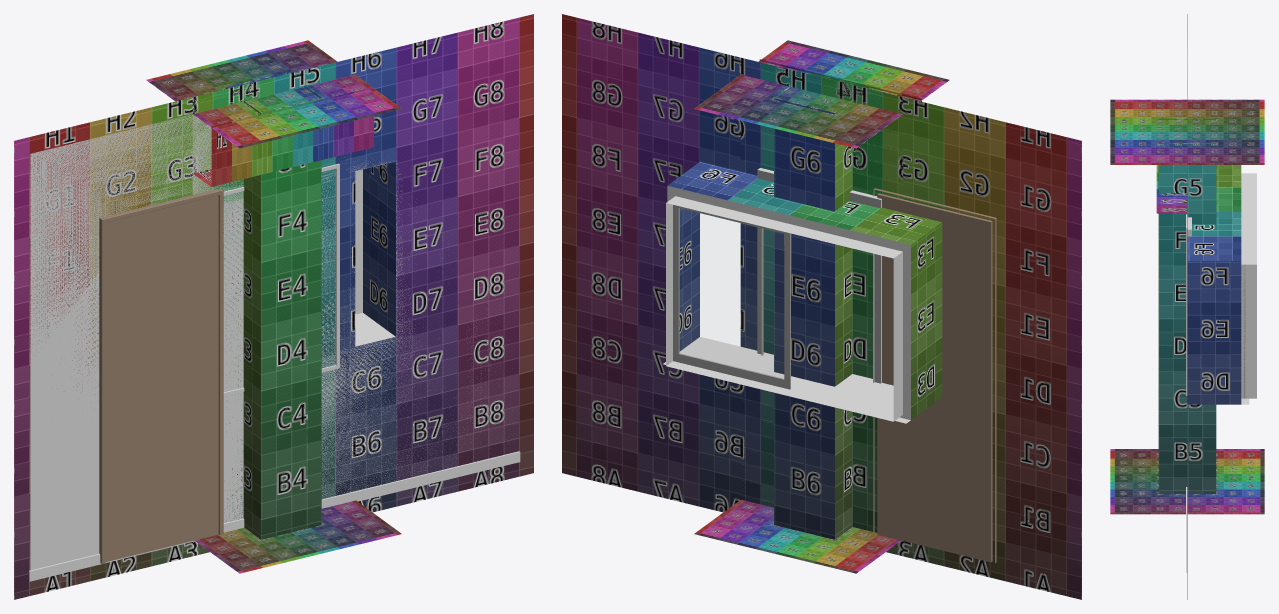
The model's file is units.glb.
3 views of the same model, side by side, from view 1: azimuth 30°, elevation 25°; view 2: azimuth 150°, elevation 25°; view 3: azimuth 270°, elevation 25° (orthographic). The views are drawn at different scales.
Visible parts, largest first — view 1: wall, __ROOM_WALL__wall.001, Door, Pillar, __CEILING__, __ROOM_WALL__wall, __FLOOR__, __BEAM__hari-300, __DOOR__, __WALL__.001, __WALL__, __BASEBOARD__ (+1 smaller); view 2: wall, Door, Pillar, __CEILING__, __WALL__.001, __WALL__, __FLOOR__, Window, __WINDOW__, __DOOR__; view 3: wall, Pillar, __CEILING__, __FLOOR__, __BEAM__hari-300, __WINDOW__, Window.
Boxes of the visible parts, bbox=[...] form: wall: bbox=[14, 14, 533, 599]; __ROOM_WALL__wall.001: bbox=[30, 114, 485, 570]; Door: bbox=[105, 195, 218, 561]; Pillar: bbox=[226, 72, 321, 539]; __CEILING__: bbox=[146, 40, 401, 148]; __ROOM_WALL__wall: bbox=[192, 114, 355, 531]; __FLOOR__: bbox=[194, 500, 401, 573]; __BEAM__hari-300: bbox=[193, 86, 373, 186]; __DOOR__: bbox=[99, 188, 223, 563]; __WALL__.001: bbox=[192, 78, 355, 555]; __WALL__: bbox=[192, 77, 355, 555]; __BASEBOARD__: bbox=[29, 451, 520, 581]; wall: bbox=[562, 14, 1081, 599]; Door: bbox=[877, 193, 992, 562]; Pillar: bbox=[774, 72, 869, 539]; __CEILING__: bbox=[694, 40, 949, 148]; __WALL__.001: bbox=[740, 58, 903, 525]; __WALL__: bbox=[740, 57, 903, 522]; __FLOOR__: bbox=[694, 500, 901, 573]; Window: bbox=[673, 205, 791, 389]; __WINDOW__: bbox=[757, 168, 881, 383]; __DOOR__: bbox=[873, 188, 996, 562]; wall: bbox=[1187, 14, 1256, 599]; Pillar: bbox=[1158, 118, 1216, 493]; __CEILING__: bbox=[1110, 99, 1264, 164]; __FLOOR__: bbox=[1110, 449, 1264, 514]; __BEAM__hari-300: bbox=[1156, 165, 1187, 213]; __WINDOW__: bbox=[1186, 214, 1191, 395]; Window: bbox=[1243, 264, 1245, 398].
Size of what is drawn, in the model's own units: 3.2 by 2.7 by 1.
Materials: 9 (5 with a texture image).
